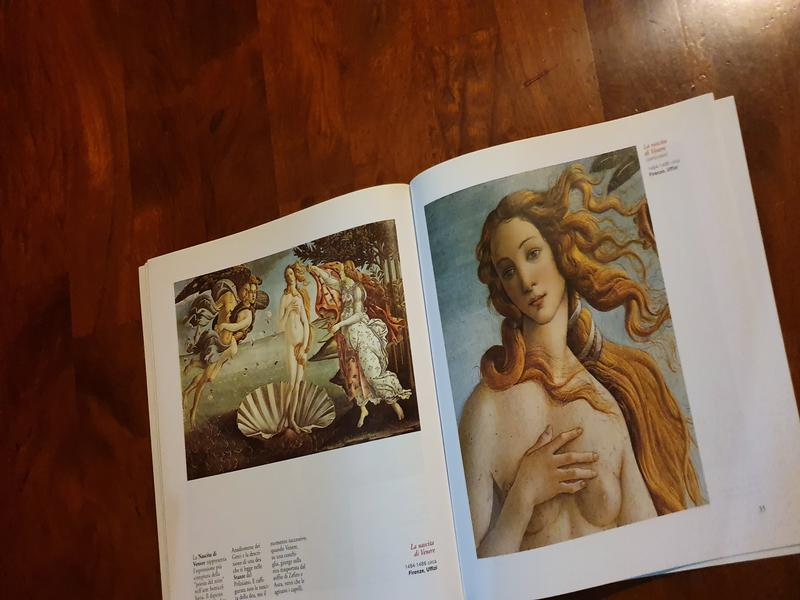Venere: (173, 218, 423, 480)
